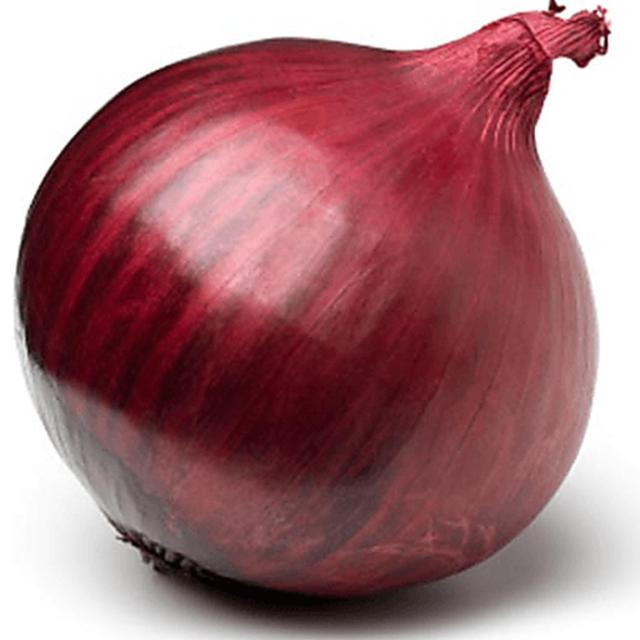Onion: (16, 0, 608, 592)
